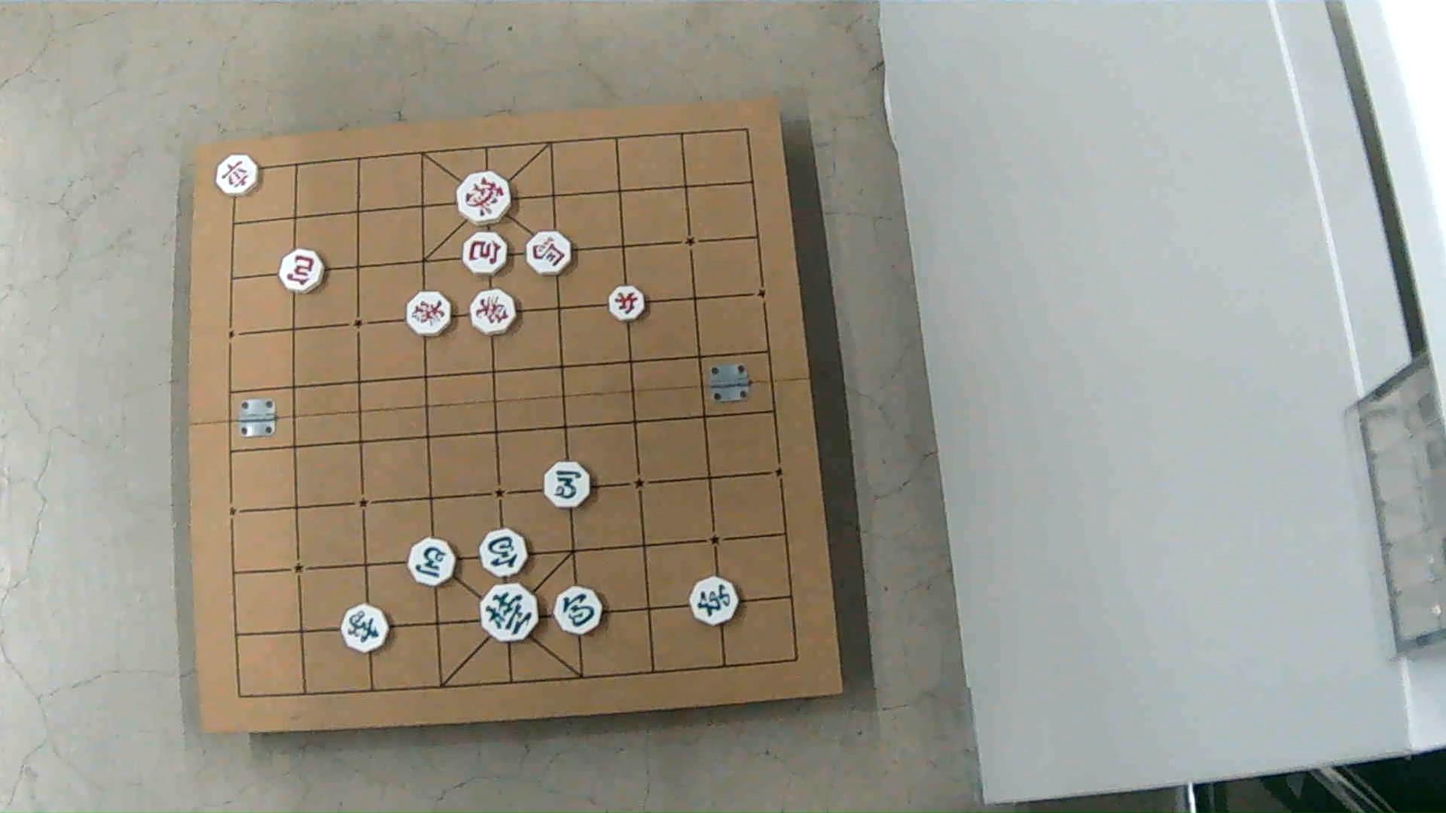cha_green: (690, 577, 738, 624)
cha_red: (213, 154, 258, 194)
jol_red: (609, 287, 645, 321)
ma_green: (542, 462, 590, 509), (407, 538, 454, 586)
ma_red: (527, 233, 573, 276)
po_green: (554, 586, 602, 635), (480, 528, 528, 577)
po_red: (462, 233, 508, 276), (282, 248, 326, 292)
sang_green: (340, 604, 387, 651)
sang_red: (470, 291, 515, 336), (404, 294, 449, 338)
wang_green: (480, 583, 538, 641)
wang_red: (458, 171, 512, 223)
